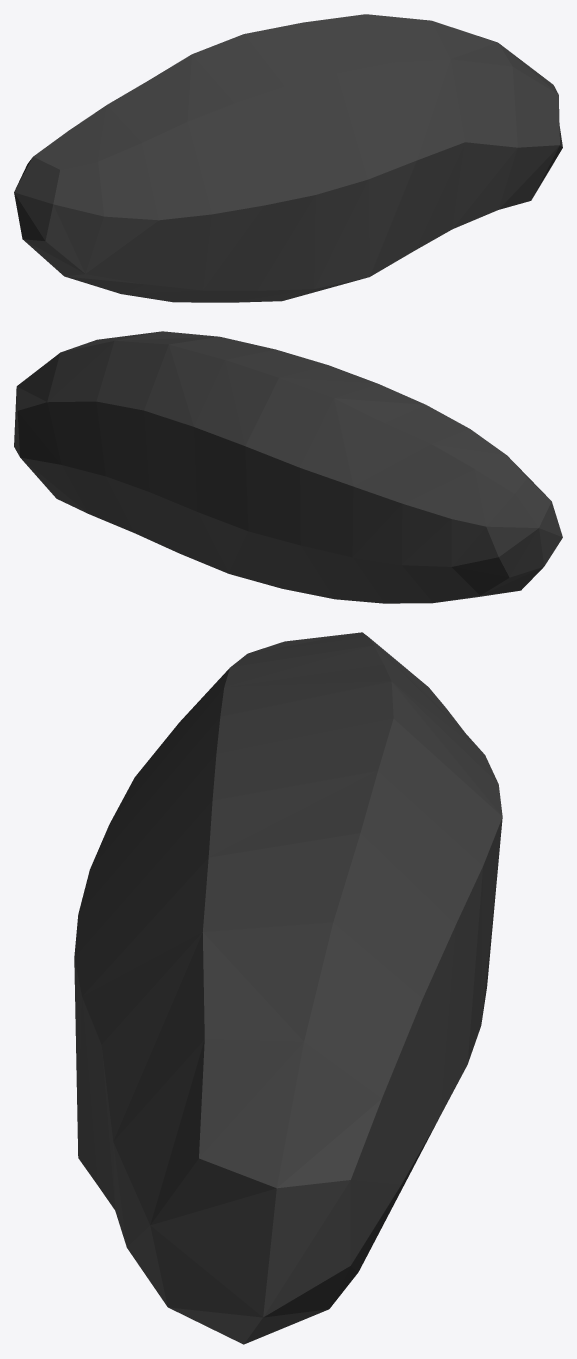
The model's file is LFL_Navicular_bone.glb.
3 renders of one model, top to bottom at view 1: azimuth 30°, elevation 25°; view 2: azimuth 150°, elevation 25°; view 3: azimuth 270°, elevation 25°, orthographic. The views are drawn at different scales.
Parts seen in each view (by area): view 1: LFL_Navicular_bone; view 2: LFL_Navicular_bone; view 3: LFL_Navicular_bone.
Part boxes in pixels (x1,y1,x2,y2): LFL_Navicular_bone: (14,14,562,302); LFL_Navicular_bone: (14,331,562,603); LFL_Navicular_bone: (74,632,502,1344).
Size of the model in its own units: 5.63 by 2.41 by 1.99.
1 material, 1 textured.
